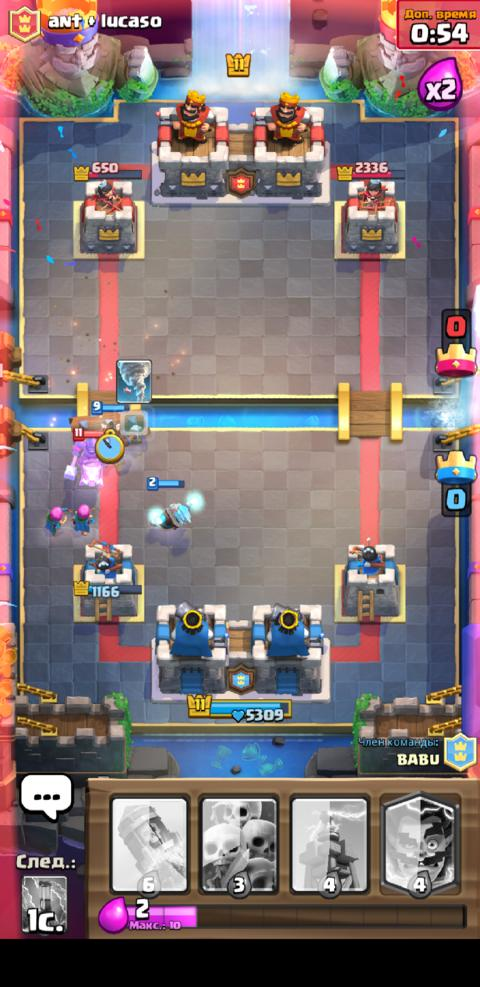ally_archer: (44, 503, 71, 537), (70, 502, 96, 535)
ally_hog_rider: (90, 399, 134, 473)
ally_ice_wizard: (145, 475, 205, 531)
enemy_hog_rider: (61, 426, 109, 488)
